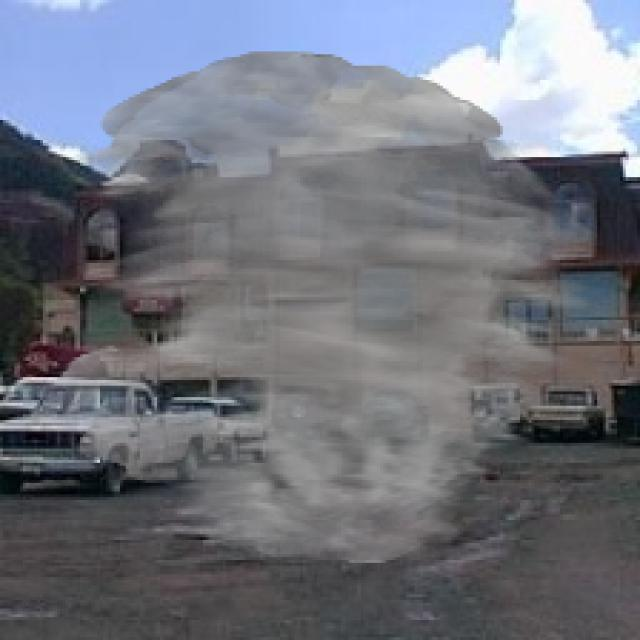smoke: (57, 51, 603, 566)
